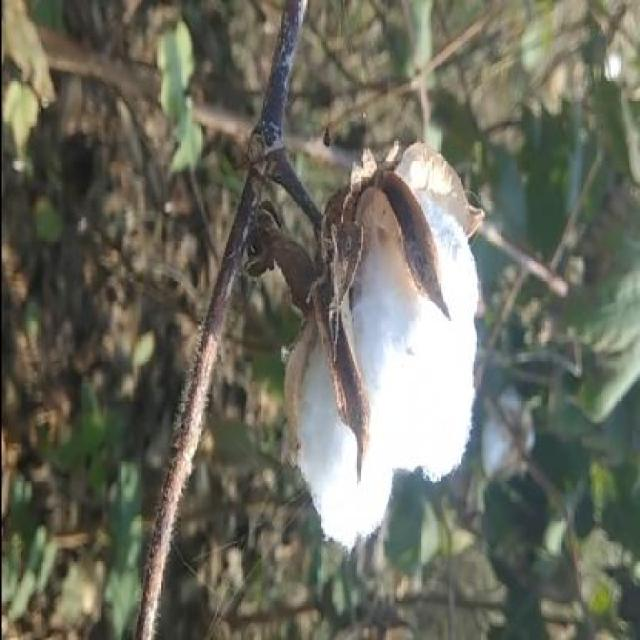cotton_ready: (164, 126, 499, 552)
